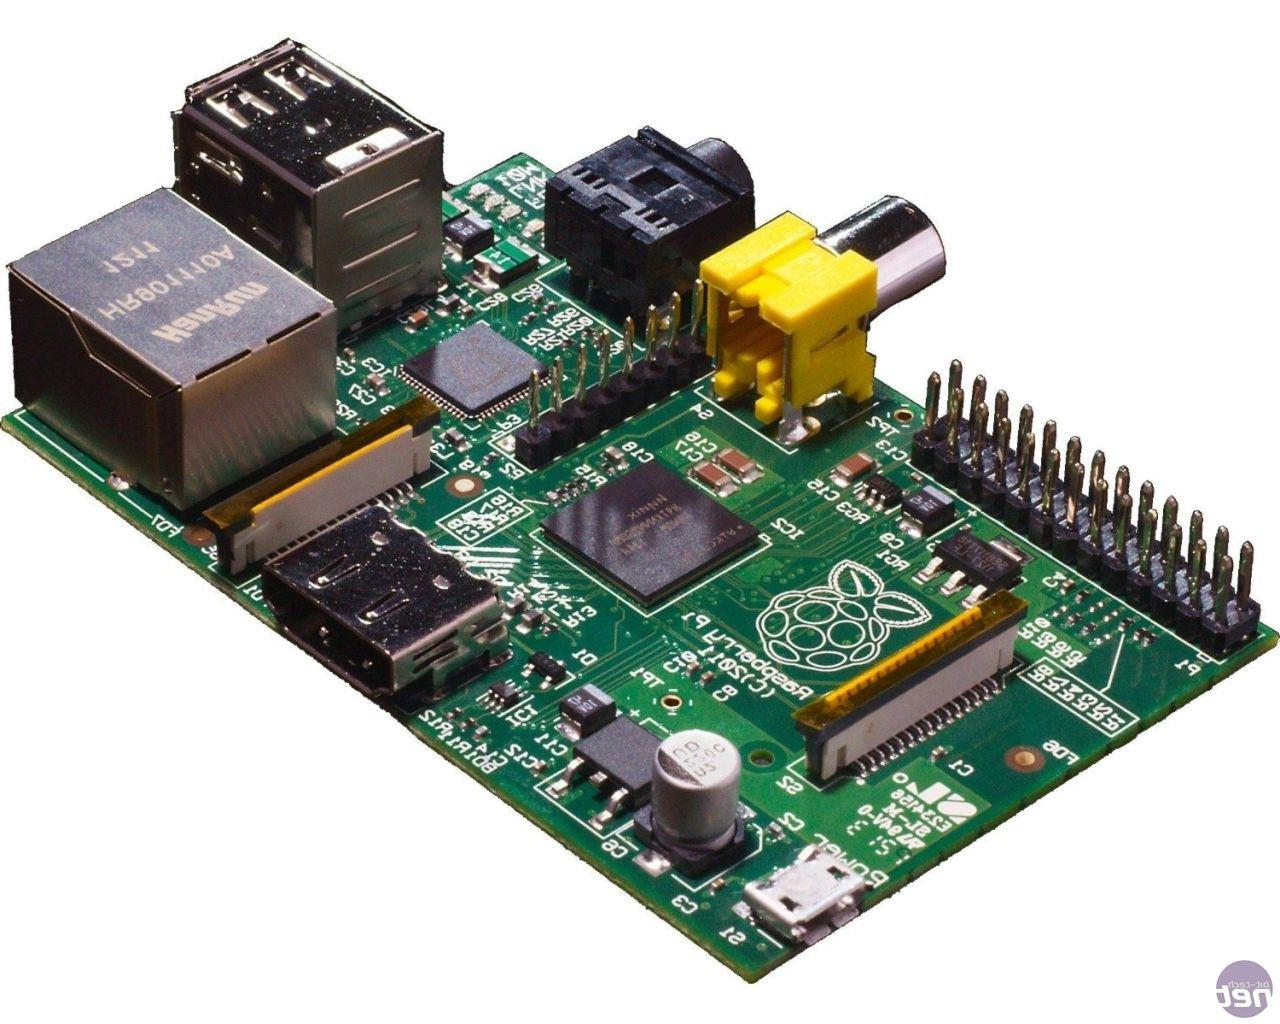audiojack: (679, 189, 944, 435)
bchi: (546, 456, 760, 603)
ethernet: (11, 191, 351, 496)
gpio: (915, 348, 1274, 667)
